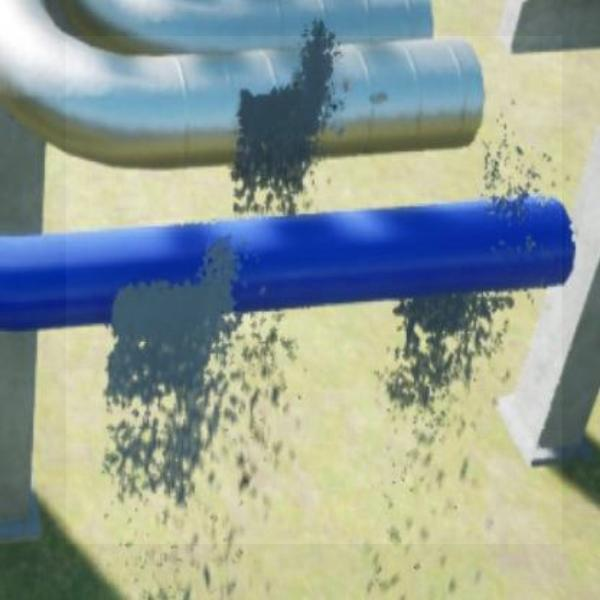gas: (66, 36, 562, 544)
